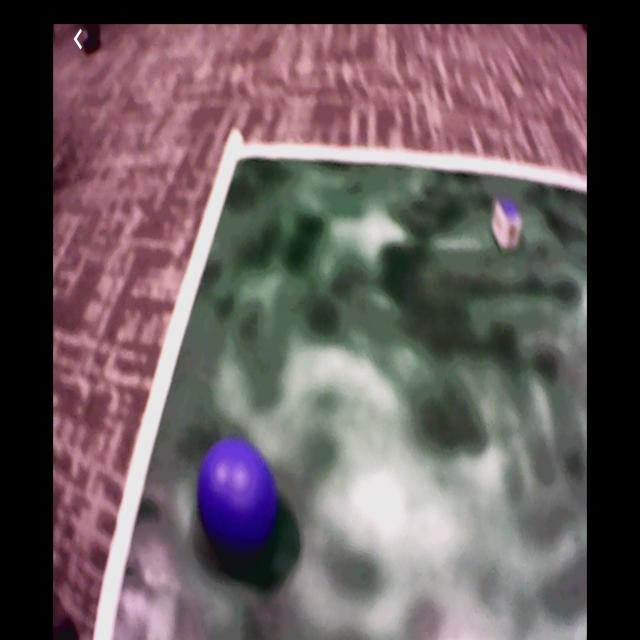ball: (199, 438, 277, 549)
